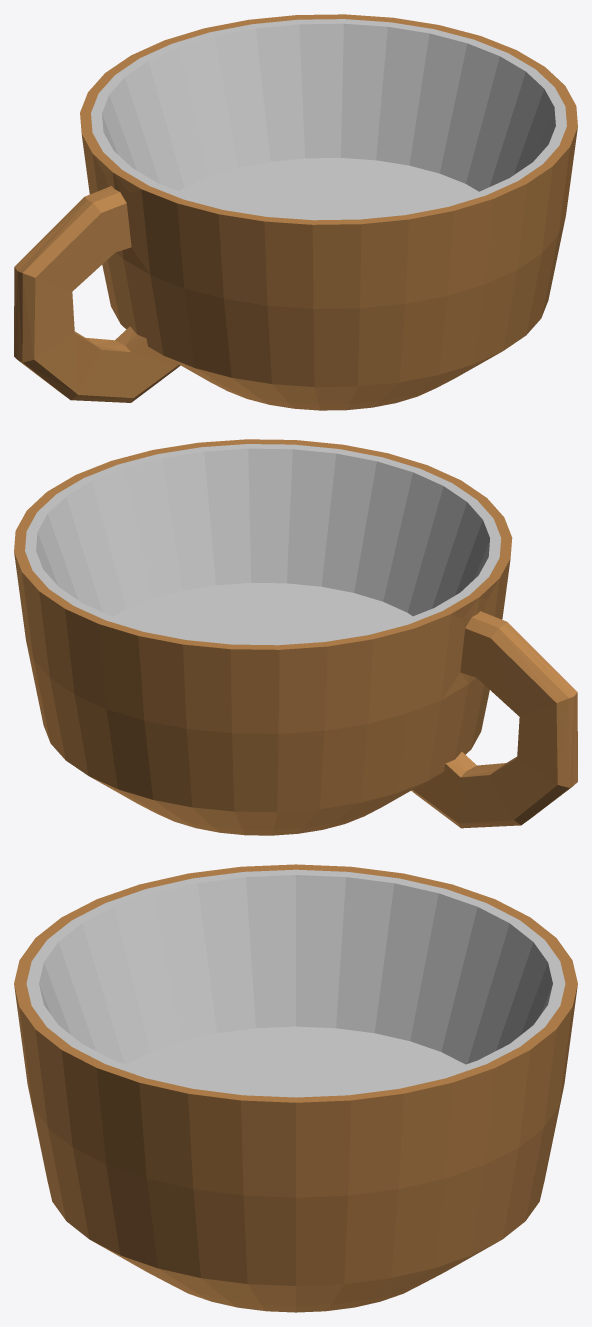
File: CoffeMug.fbx
3 renders of one model, top to bottom at view 1: azimuth 30°, elevation 25°; view 2: azimuth 150°, elevation 25°; view 3: azimuth 270°, elevation 25°, orthographic. The views are drawn at different scales.
Visible parts, largest first — view 1: Circle.001; view 2: Circle.001; view 3: Circle.001.
Part boxes in pixels (x1=…): Circle.001: x1=14, y1=14, x2=577, y2=410; Circle.001: x1=14, y1=439, x2=577, y2=835; Circle.001: x1=14, y1=864, x2=577, y2=1312.
Size of the model in its own units: 0.3874 by 0.1644 by 0.3176.
